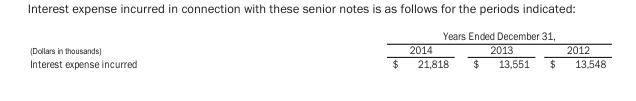table: (29, 28, 605, 69)
table column: (29, 28, 264, 69), (264, 28, 460, 69), (460, 28, 538, 69), (538, 28, 605, 69)
table column header: (29, 28, 605, 56)
table row: (29, 28, 605, 42), (29, 42, 605, 56), (29, 56, 605, 69)
table spanning cell: (29, 28, 264, 56), (264, 28, 605, 42)
